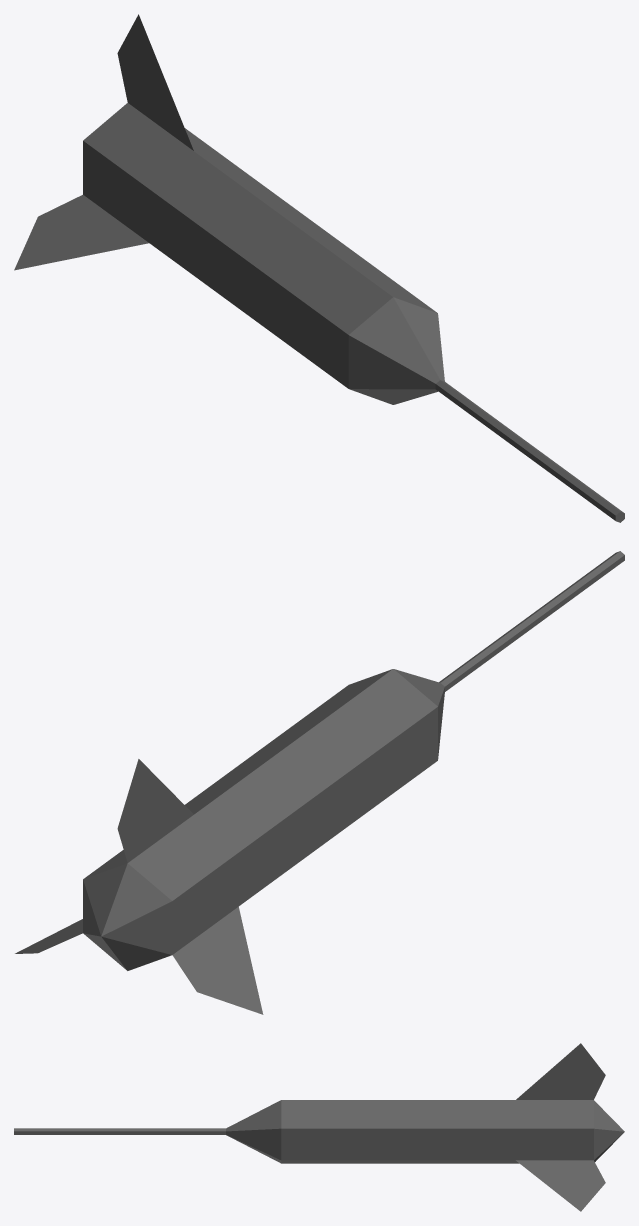
The model's file is InjGun.fbx.
3 views of the same model, one above another, from view 1: azimuth 30°, elevation 25°; view 2: azimuth 150°, elevation 25°; view 3: azimuth 270°, elevation 25° (orthographic). The views are drawn at different scales.
Visible parts, largest first — view 1: Injection; view 2: Injection; view 3: Injection.
Part boxes in pixels (x1,y1,x2,y2): Injection: [14, 14, 624, 522]; Injection: [15, 551, 624, 1014]; Injection: [14, 1043, 624, 1211].
Bounding box in the file's own units: 3.53 × 3.06 × 12.75.
